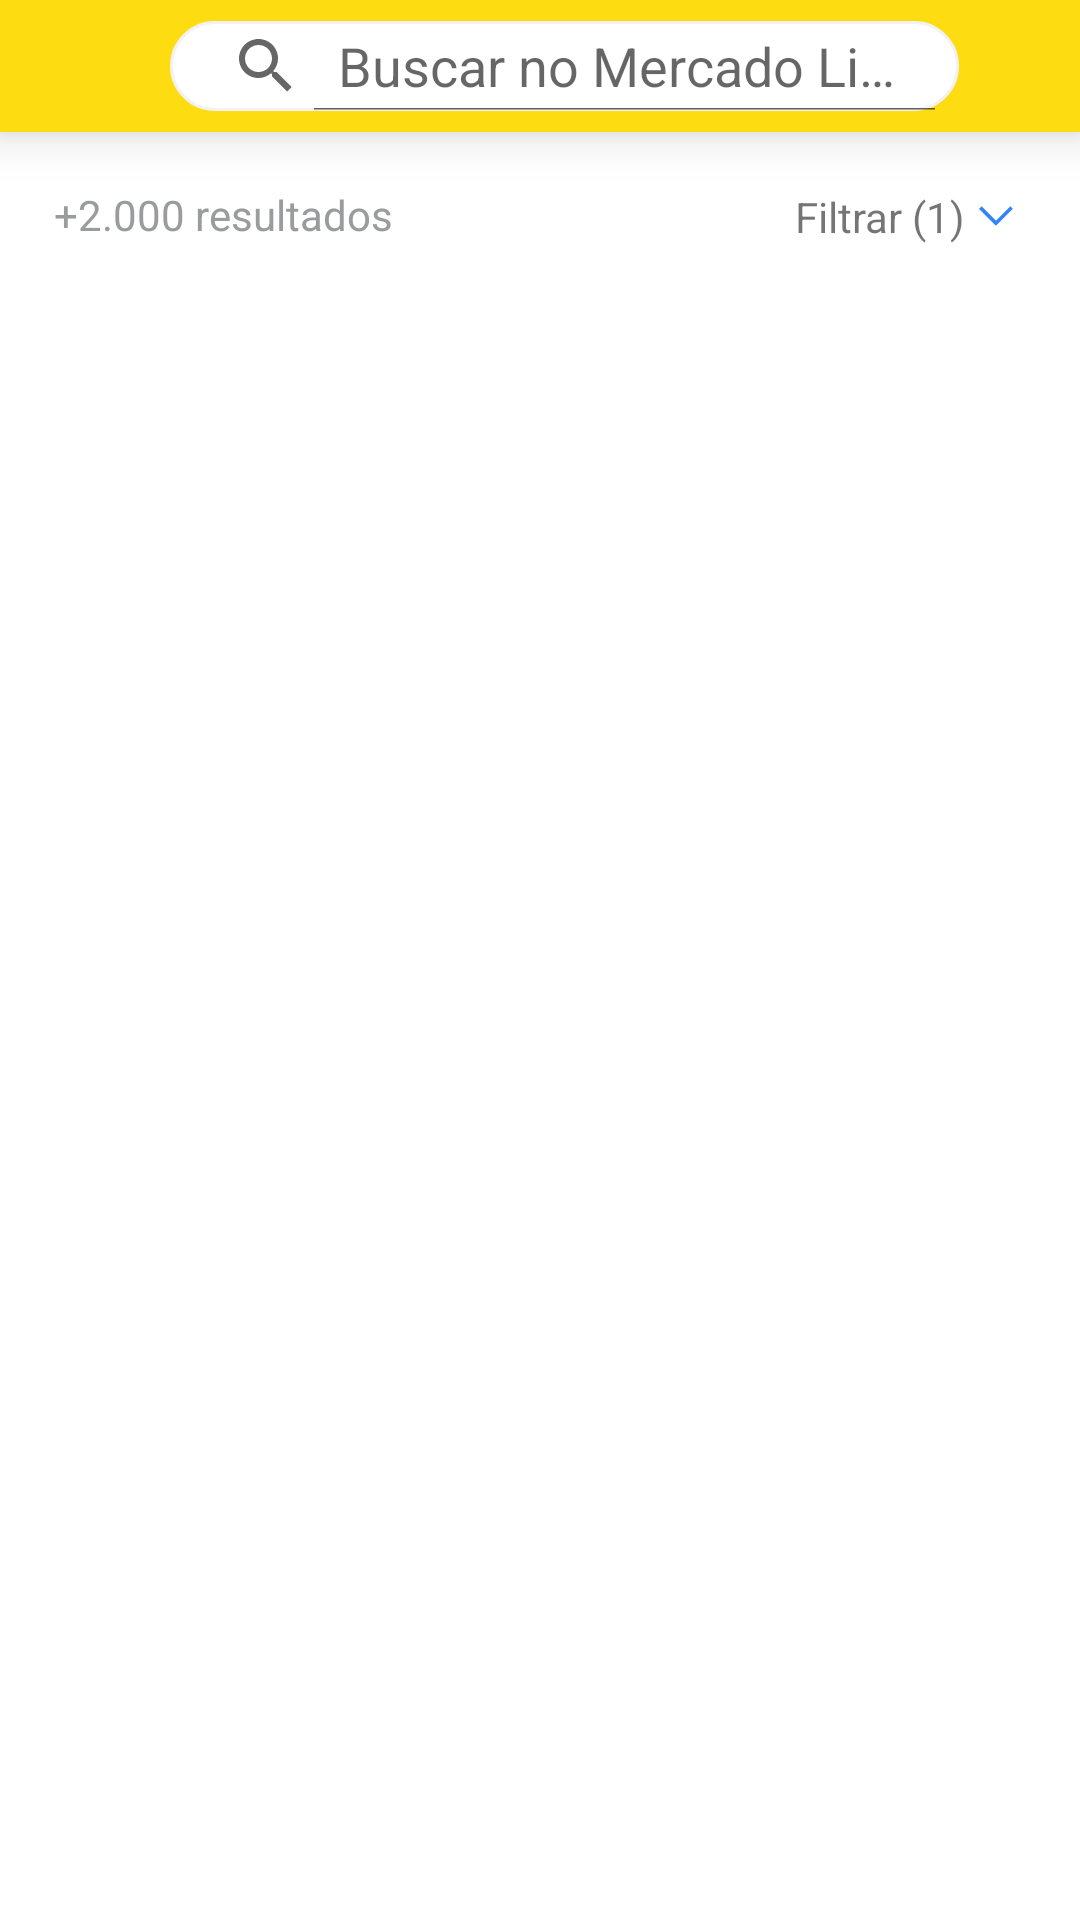

Where icons sit on this 1080w x 1920h app screen, as (x1, y1, x2, y2):
chevron down: (979, 206, 1013, 226)
